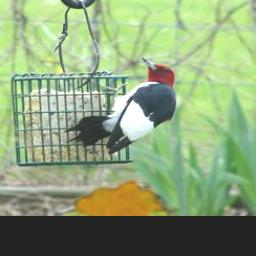Woodpecker: (63, 56, 175, 154)
